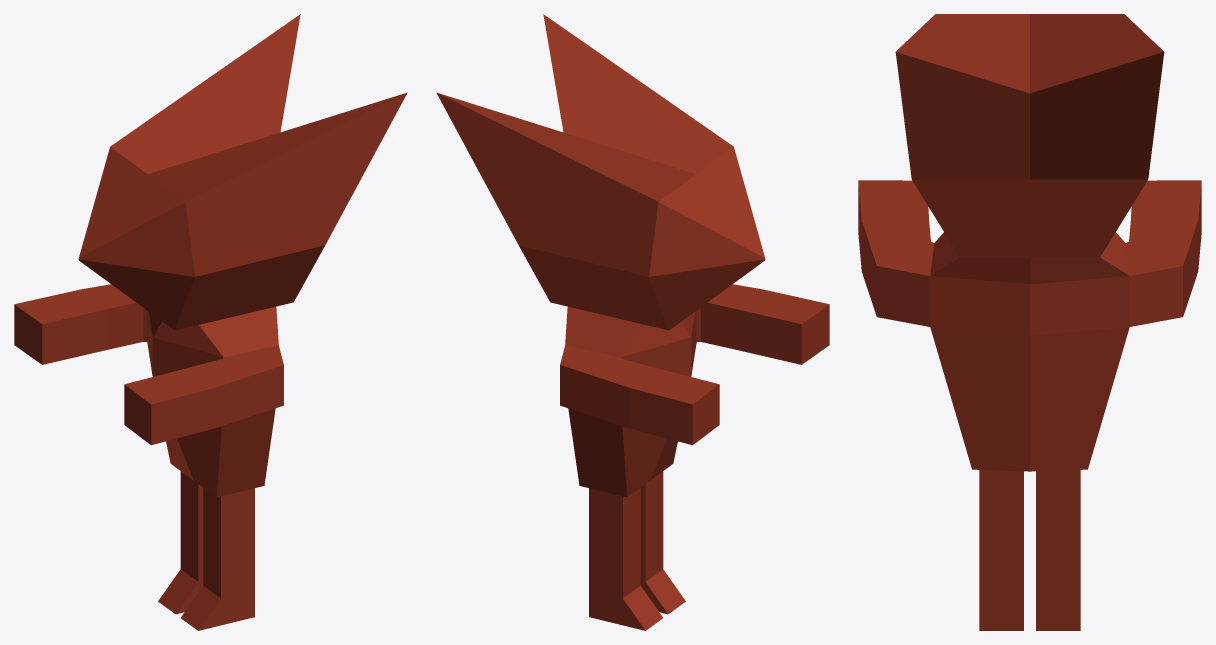
Rendered from Gremlin.fbx.
3 views of the same model, side by side, from view 1: azimuth 30°, elevation 25°; view 2: azimuth 150°, elevation 25°; view 3: azimuth 270°, elevation 25° (orthographic). The views are drawn at different scales.
Visible parts, largest first — view 1: Cube; view 2: Cube; view 3: Cube.
Part boxes in pixels (x1,y1,x2,y2): Cube: [14, 14, 407, 630]; Cube: [436, 14, 829, 630]; Cube: [858, 14, 1201, 630].
Bounding box in the file's own units: 423 × 762 × 364.
